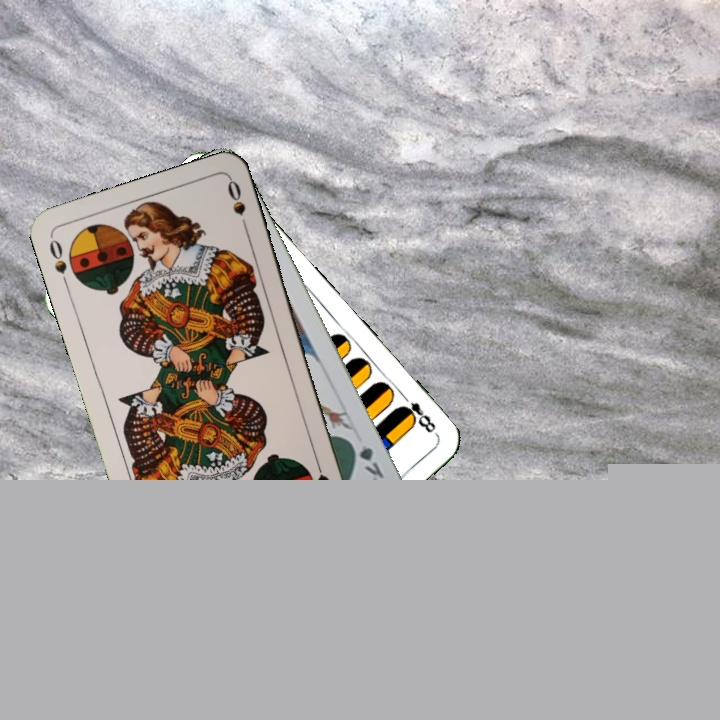E8: (395, 389, 439, 436)
GK: (345, 435, 387, 486)
SO: (310, 452, 337, 511), (45, 233, 71, 290)
